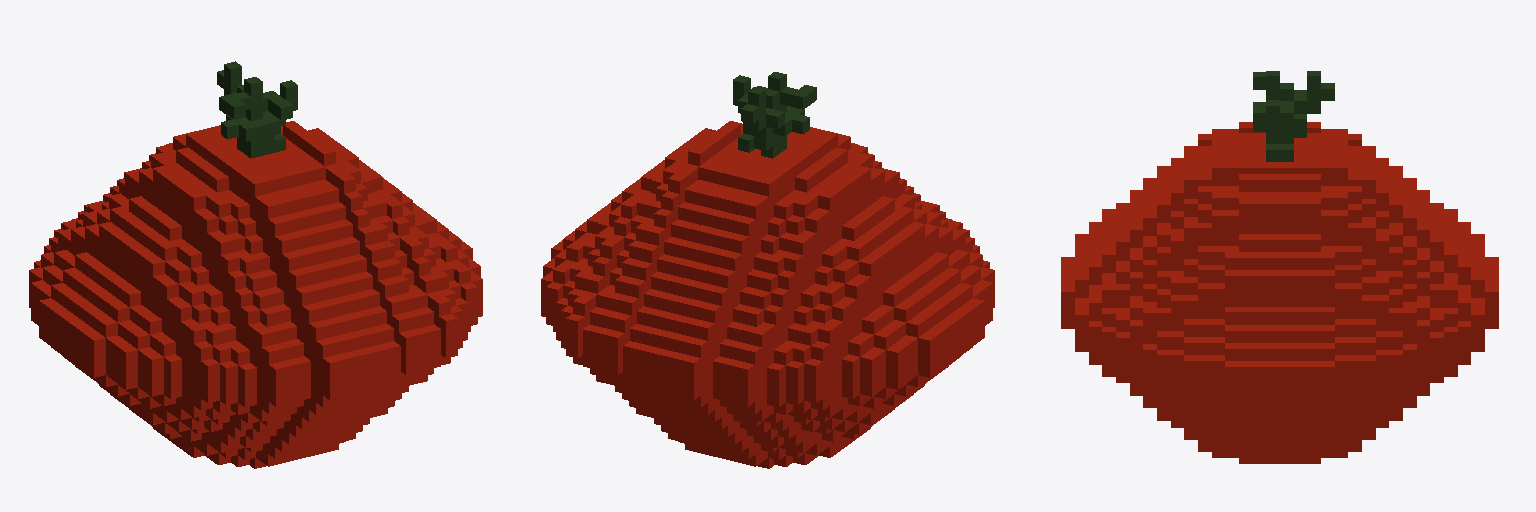
3 renders of one model, left to right at view 1: azimuth 30°, elevation 25°; view 2: azimuth 150°, elevation 25°; view 3: azimuth 270°, elevation 25°, orthographic.
Parts seen in each view (by area): view 1: object 1; view 2: object 1; view 3: object 1.
Boxes of the visible parts, box(x1,y1,x2,y2) form: object 1: box(29, 61, 482, 468); object 1: box(541, 72, 994, 468); object 1: box(1061, 71, 1498, 463).
Bounding box in the file's own units: 3.2 × 2.9 × 3.2.
Materials: 1 (1 with a texture image).